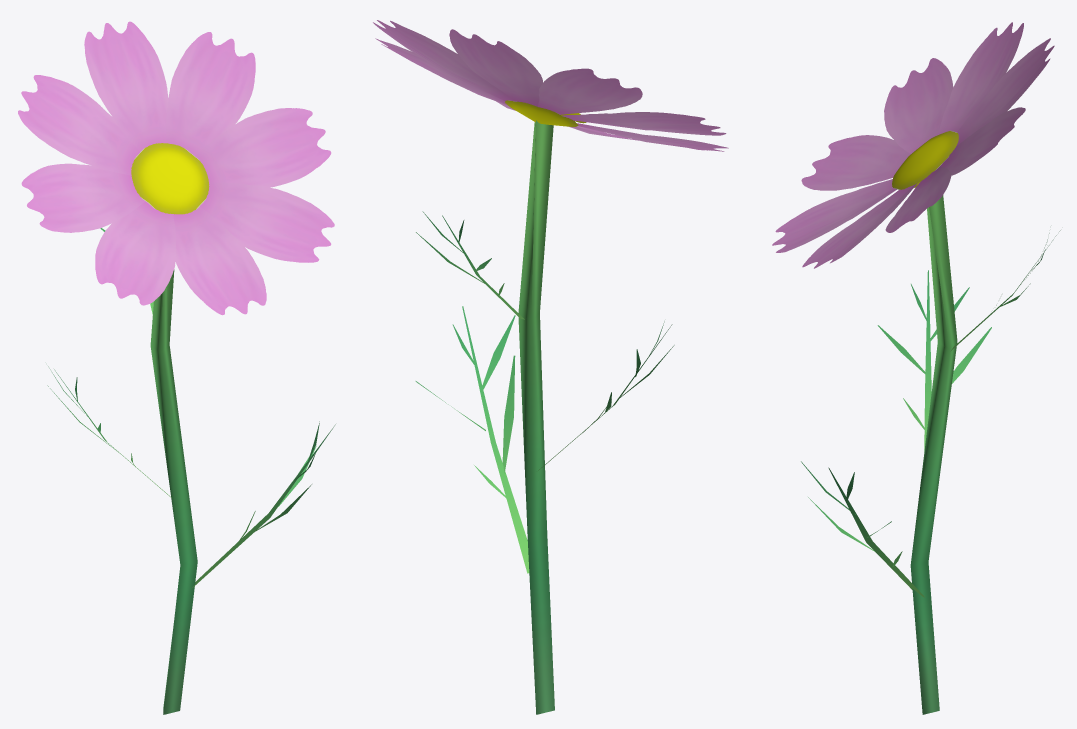
File: Cosmos_Pink.fbx
3 renders of one model, left to right at view 1: azimuth 30°, elevation 25°; view 2: azimuth 150°, elevation 25°; view 3: azimuth 270°, elevation 25°, orthographic. The views are drawn at different scales.
Parts seen in each view (by area): view 1: Cosmos_Pink; view 2: Cosmos_Pink; view 3: Cosmos_Pink.
Part boxes in pixels (x1,y1,x2,y2): Cosmos_Pink: (18, 21, 335, 714); Cosmos_Pink: (373, 20, 728, 714); Cosmos_Pink: (772, 22, 1060, 714).
Bounding box in the file's own units: 32.86 × 64.7 × 26.18.
